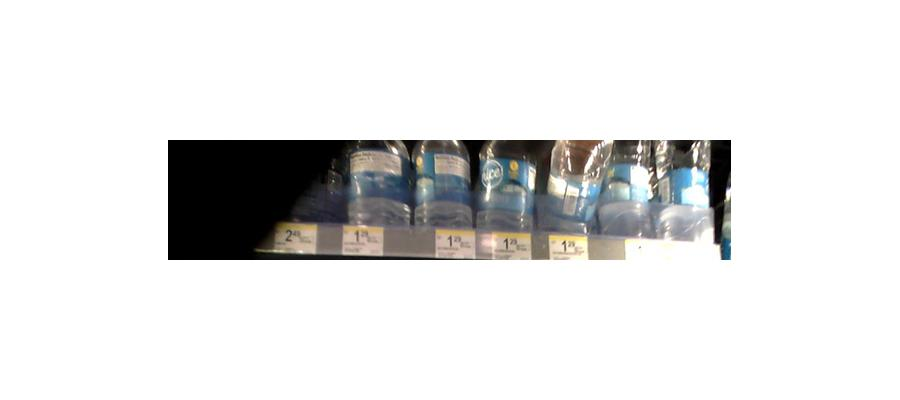bottle: (656, 138, 715, 248), (346, 137, 413, 226), (539, 133, 598, 230), (474, 138, 533, 232), (413, 136, 473, 227), (602, 133, 653, 238)
